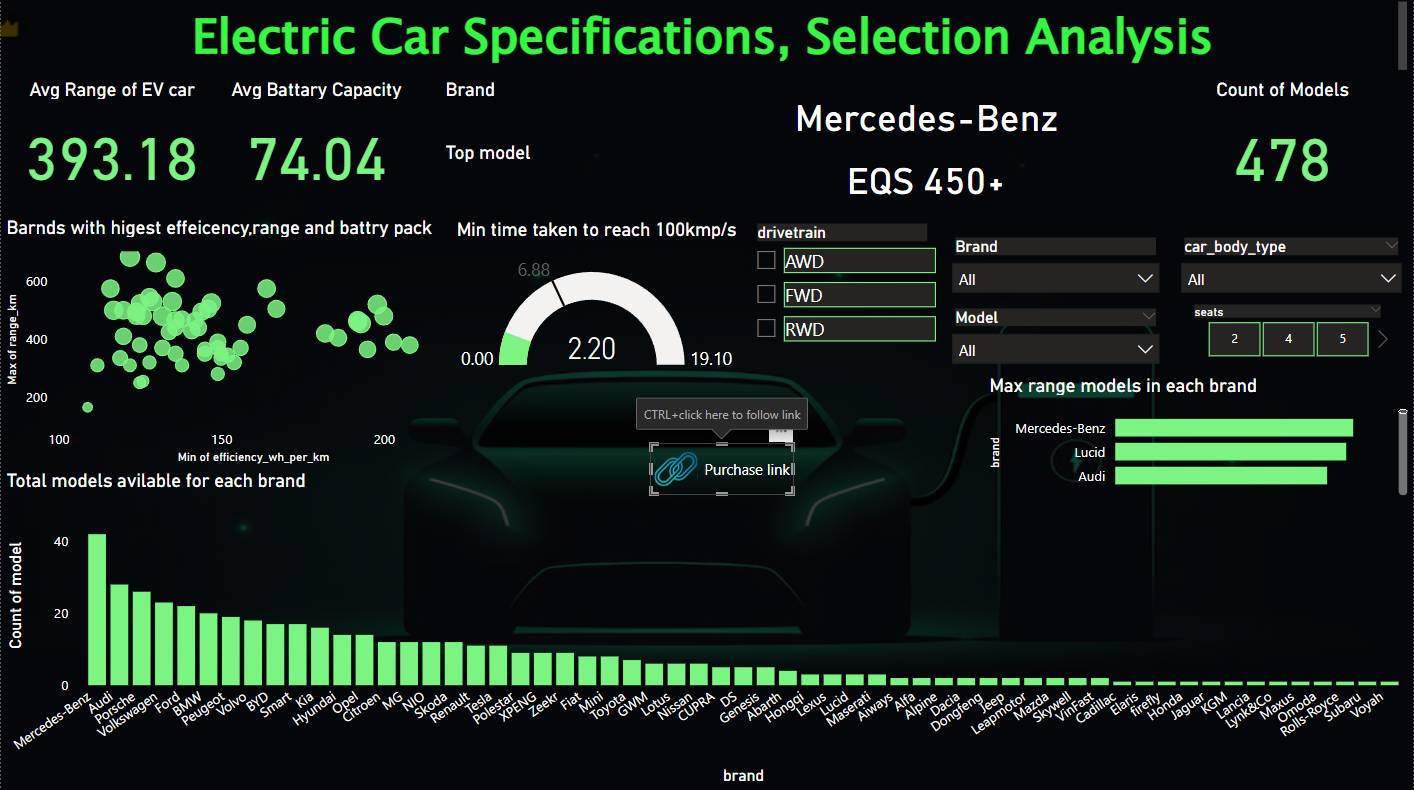

This screenshot's page, from the dashboard's own definition file:
{"tool":"powerbi","page":{"name":"Page 1","canvas":[1280,720],"ordinal":0},"visuals":[{"type":"textbox","box":[0,0,1280.4,74.4],"z":0},{"type":"columnChart","title":"Total models avilable for each brand","fields":{"Category":["Sheet1.brand"],"Y":["CountNonNull(Sheet1.model)"]},"box":[0,428.9,1280.4,291.1],"z":1000},{"type":"barChart","title":"Max range models in each brand","fields":{"Category":["Sheet1.brand"],"Y":["Max(Sheet1.range_km)"]},"box":[891.4,342.8,389,115.2],"z":2000},{"type":"scatterChart","title":"Barnds with higest effeicency,range and battry pack","fields":{"Y":["Max(Sheet1.range_km)"],"Category":["Sheet1.brand"],"Size":["Max(Sheet1.battery_capacity_kWh)"],"X":["Min(Sheet1.efficiency_wh_per_km)"]},"box":[0,199.4,421.2,229.5],"z":3000},{"type":"card","title":"Avg Range of EV car","fields":{"Values":["Avg(Sheet1.range_km)"]},"box":[0,73.9,201.3,113.8],"z":4000},{"type":"card","title":"Avg Battary Capacity","fields":{"Values":["Avg(Sheet1.battery_capacity_kWh)"]},"box":[201.3,74.4,169.6,113.4],"z":5000},{"type":"gauge","title":"Min time taken to reach 100kmp/s","fields":{"Y":["Min(Sheet1.acceleration_0_100_s)"],"MaxValue":["Max(Sheet1.acceleration_0_100_s)"],"TargetValue":["Sheet1.avg_acc"]},"box":[407.2,201.3,265.7,146],"z":6000},{"type":"card","title":"Brand","fields":{"Values":["Sheet1.TopbrandByRange"]},"box":[398.1,74.4,882.3,68],"z":7000},{"type":"card","title":"Top model","fields":{"Values":["Sheet1.TopModelByRange"]},"box":[398.1,131.5,882.3,68],"z":8000},{"type":"slicer","fields":{"Values":["Sheet1.brand"]},"box":[852.4,214,207.7,64.4],"z":9000},{"type":"card","title":"Count of Models","fields":{"Values":["Count(Sheet1.model)"]},"box":[1060.1,74.4,204,115.2],"z":10000},{"type":"slicer","fields":{"Values":["Sheet1.model"]},"box":[852.4,278.4,207.7,64.4],"z":11000},{"type":"slicer","fields":{"Values":["Sheet1.car_body_type"]},"box":[1060.1,214,220.4,60.8],"z":12000},{"type":"slicer","fields":{"Values":["Sheet1.drivetrain"]},"box":[672.8,201.3,179.5,131.5],"z":13000},{"type":"slicer","fields":{"Values":["Sheet1.seats"]},"box":[1069.1,274.8,195,58.9],"z":14000},{"type":"actionButton","box":[592.1,360,130.6,47.2],"z":15000}]}

Visuals, with their boxes in screenshot pixels (x1, y1, x2, y2), scaled from the page's 1280x720 canvas onto the 1414x790 screenshot:
textbox: bbox(0, 0, 1413, 82)
"Total models avilable for each brand" columnChart: bbox(0, 471, 1413, 789)
"Max range models in each brand" barChart: bbox(985, 376, 1413, 503)
"Barnds with higest effeicency,range and battry pack" scatterChart: bbox(0, 219, 465, 471)
"Avg Range of EV car" card: bbox(0, 81, 222, 206)
"Avg Battary Capacity" card: bbox(222, 82, 410, 206)
"Min time taken to reach 100kmp/s" gauge: bbox(450, 221, 743, 381)
"Brand" card: bbox(440, 82, 1413, 156)
"Top model" card: bbox(440, 144, 1413, 219)
slicer - Sheet1.brand: bbox(942, 235, 1171, 305)
"Count of Models" card: bbox(1171, 82, 1396, 208)
slicer - Sheet1.model: bbox(942, 305, 1171, 376)
slicer - Sheet1.car_body_type: bbox(1171, 235, 1413, 302)
slicer - Sheet1.drivetrain: bbox(743, 221, 942, 365)
slicer - Sheet1.seats: bbox(1181, 302, 1396, 366)
actionButton: bbox(654, 395, 798, 447)
